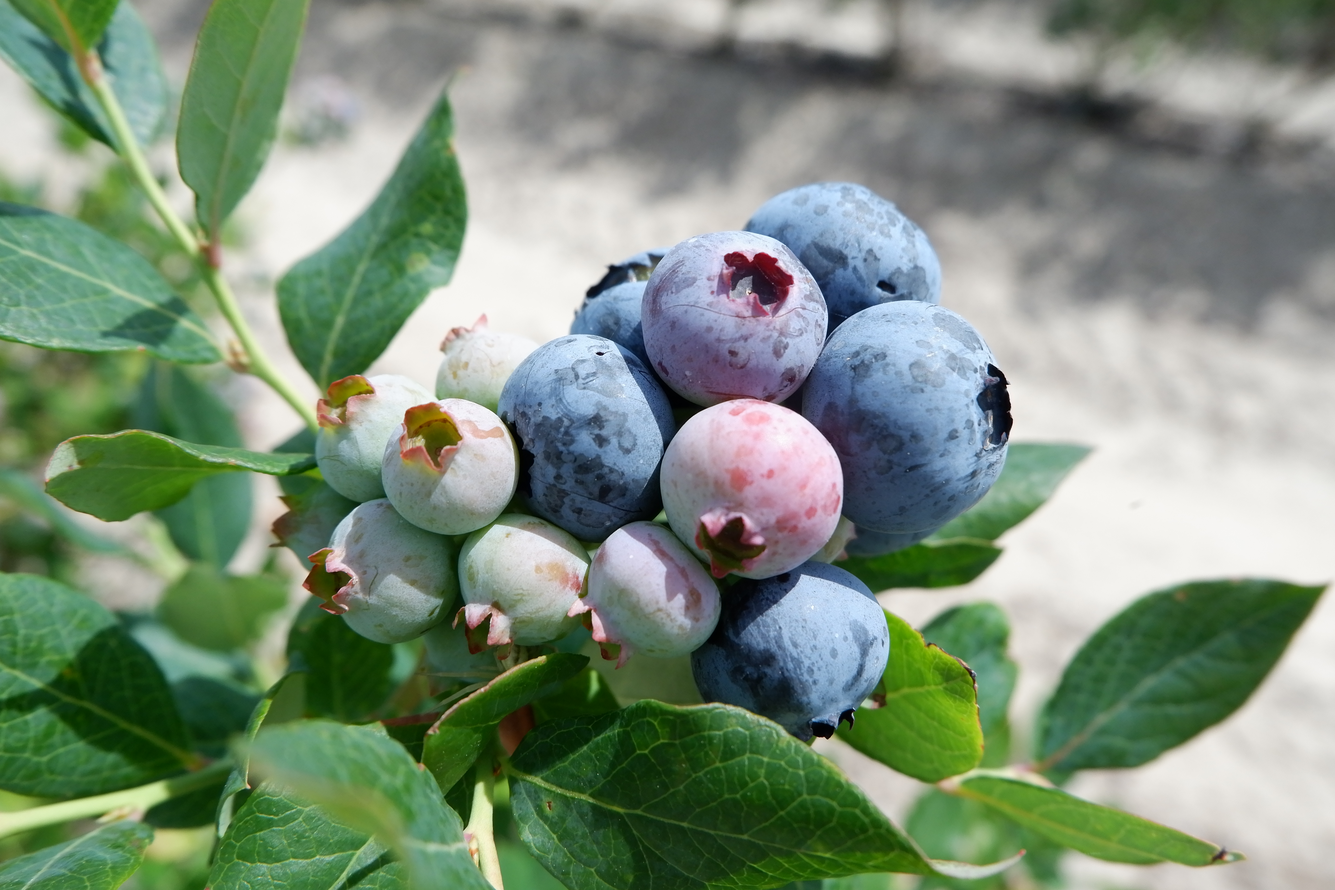Immature: (662, 402, 842, 573), (642, 235, 825, 400), (313, 504, 451, 642), (588, 524, 718, 666), (459, 517, 588, 650), (382, 403, 515, 531), (317, 376, 426, 498), (437, 315, 534, 412), (277, 485, 351, 555), (815, 518, 853, 562)
Mature: (805, 306, 1011, 540), (504, 335, 668, 537), (697, 566, 885, 733), (745, 185, 938, 318), (572, 249, 669, 362), (848, 528, 921, 557)
